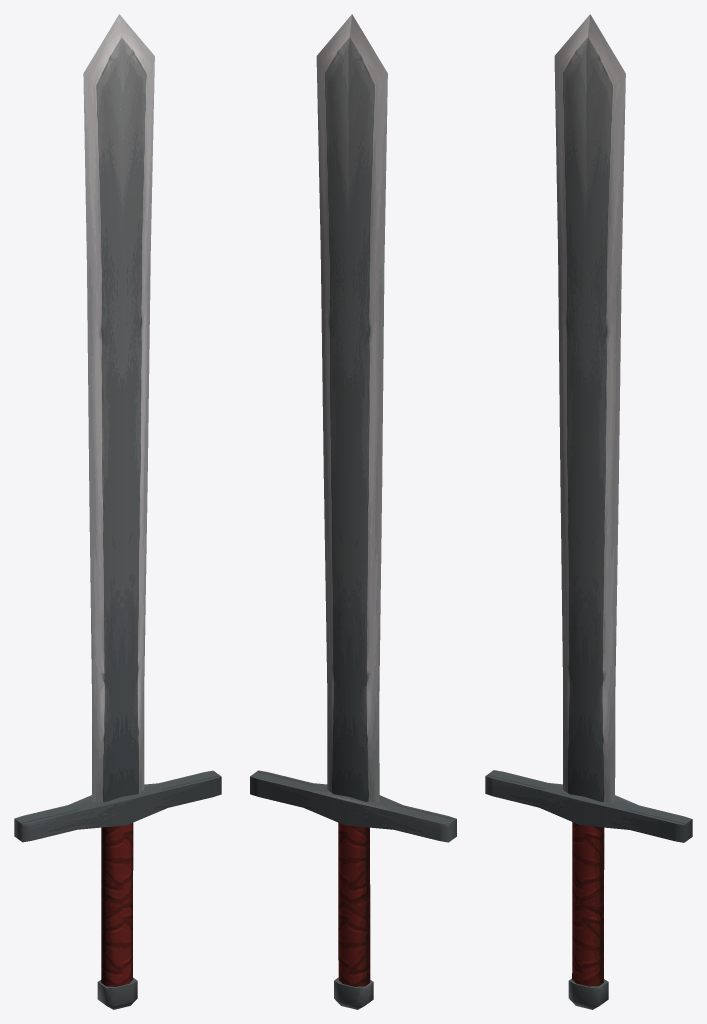
The model's file is rapier.glb.
3 views of the same model, side by side, from view 1: azimuth 30°, elevation 25°; view 2: azimuth 150°, elevation 25°; view 3: azimuth 330°, elevation 25° (orthographic).
Parts seen in each view (by area): view 1: sword1h-203; view 2: sword1h-203; view 3: sword1h-203.
Boxes of the visible parts, x1,y1,x2,y2 form: sword1h-203: [14, 14, 221, 1009]; sword1h-203: [250, 14, 456, 1009]; sword1h-203: [485, 14, 692, 1009].
Size of the model in its own units: 0.1997 by 0.95 by 0.0305.
Materials: 1 (1 with a texture image).
